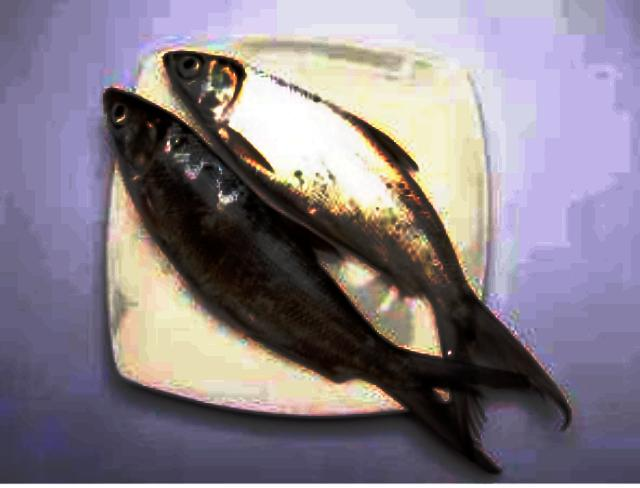Healthy Fish: (108, 91, 528, 471)
